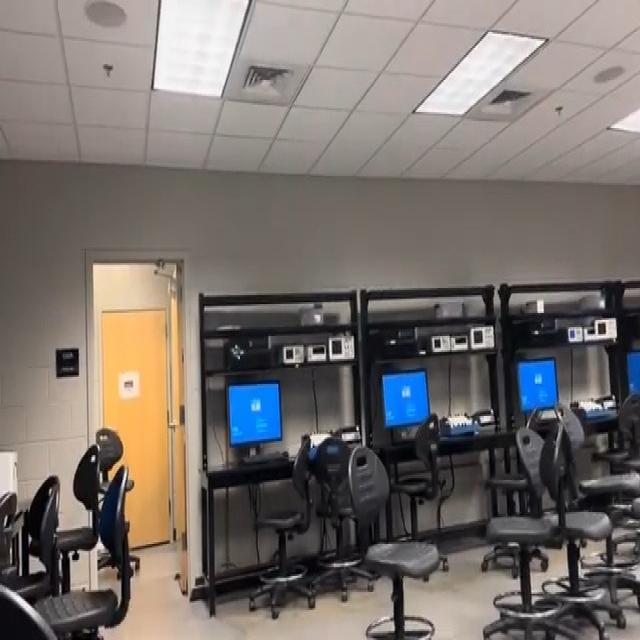drone: (224, 324, 250, 366)
